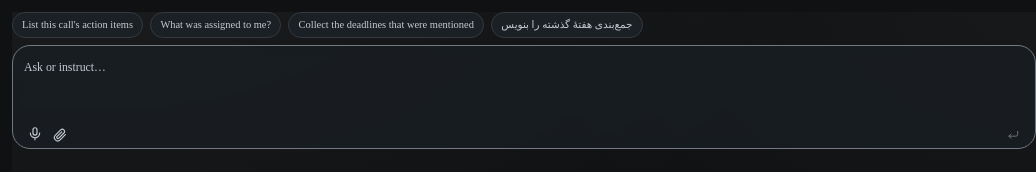
Test: the hub’s suggestions never mix languages › en: the composer is filled with the words the row showed, not the wire's
Click the button "List this call's action items". click: click(78, 25)
box: x1=12 y1=12 x2=143 y2=38
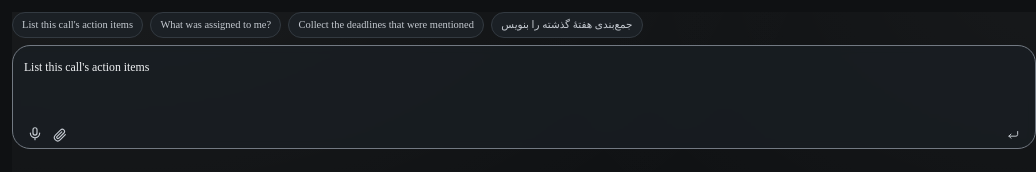
Expected: the text box holds "List this call's action items", x1=24 y1=57 x2=1024 y2=123
